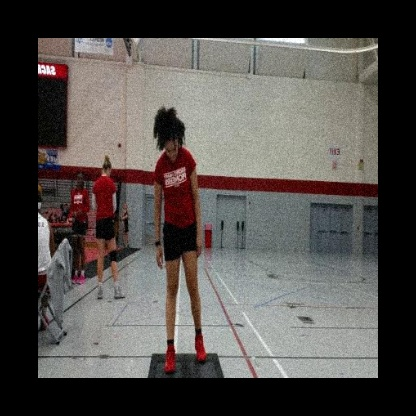lateral_flexion_left: (150, 101, 208, 378)
stance_width_normal: (154, 145, 209, 378)
